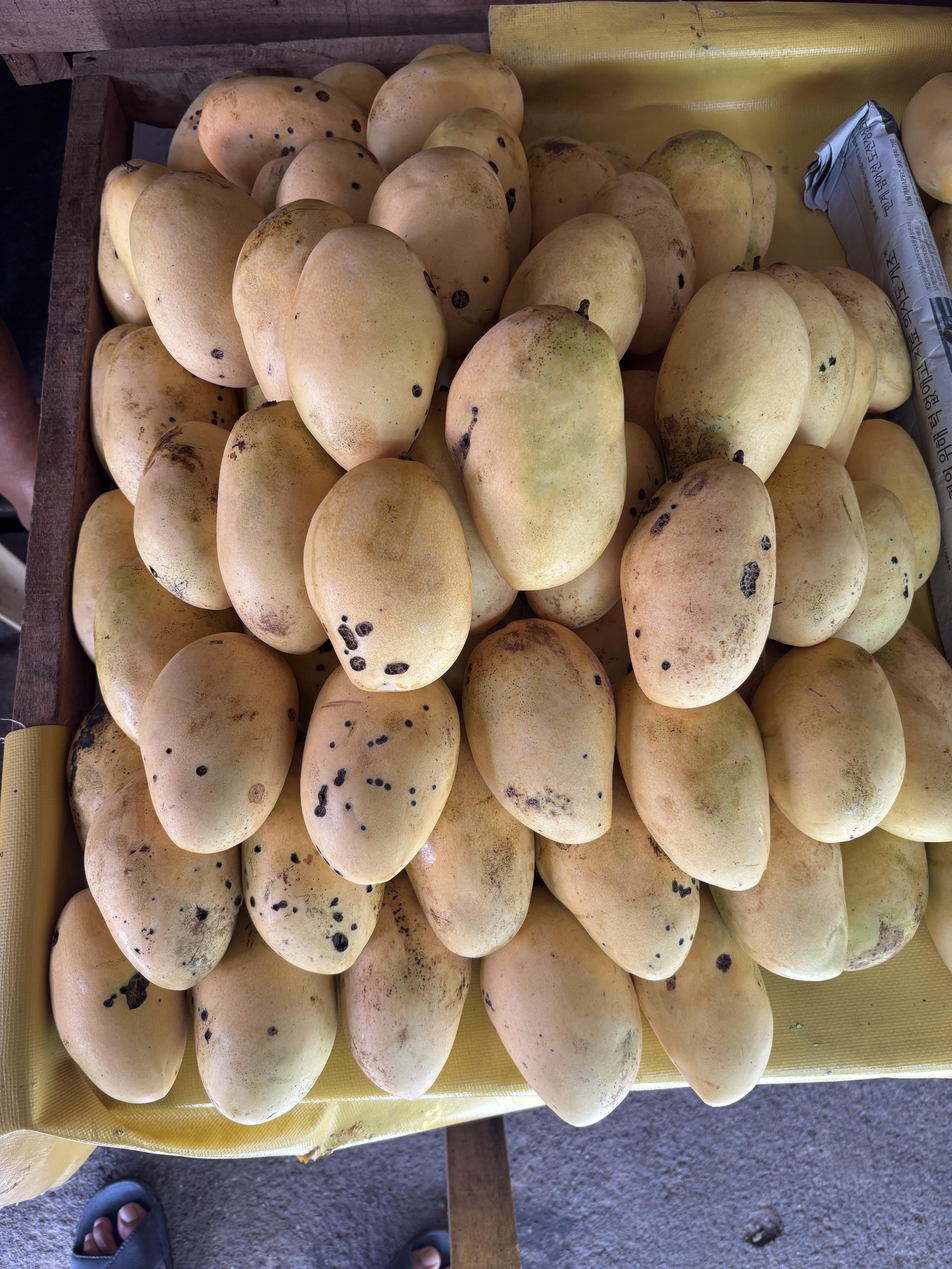mango: (446, 306, 625, 591), (285, 224, 447, 469), (304, 458, 472, 691), (620, 459, 776, 708), (140, 633, 298, 853), (462, 619, 615, 844), (752, 638, 906, 842)
occluded: (480, 886, 642, 1126), (300, 668, 460, 889), (536, 764, 699, 980), (85, 772, 242, 990), (616, 673, 770, 890), (242, 743, 383, 974), (655, 271, 809, 481), (217, 401, 344, 654), (193, 909, 337, 1124), (635, 887, 773, 1106), (369, 147, 511, 356), (407, 725, 534, 957), (341, 873, 471, 1099), (50, 889, 187, 1103), (129, 171, 261, 389), (527, 422, 665, 628), (94, 559, 240, 742), (409, 391, 516, 637), (712, 798, 848, 981), (102, 327, 242, 503), (232, 199, 353, 401), (500, 212, 646, 361), (766, 443, 868, 646), (197, 75, 367, 193), (590, 172, 696, 355), (366, 51, 523, 170), (423, 107, 531, 275), (134, 421, 230, 610), (641, 130, 752, 290), (764, 263, 855, 447), (846, 418, 941, 589), (814, 266, 912, 410), (838, 481, 915, 652), (841, 827, 928, 971), (881, 673, 952, 841), (66, 701, 143, 848), (72, 490, 138, 659), (525, 137, 616, 248), (276, 137, 387, 222), (873, 619, 952, 728), (103, 160, 169, 289), (91, 323, 143, 467), (827, 316, 877, 464), (901, 73, 952, 203), (167, 77, 230, 174), (282, 642, 339, 739), (98, 219, 147, 325), (574, 599, 631, 688), (621, 369, 666, 471), (742, 151, 776, 270), (924, 841, 952, 972), (314, 61, 385, 112), (251, 153, 294, 214), (412, 43, 472, 61), (242, 383, 267, 412), (952, 280, 952, 281)
